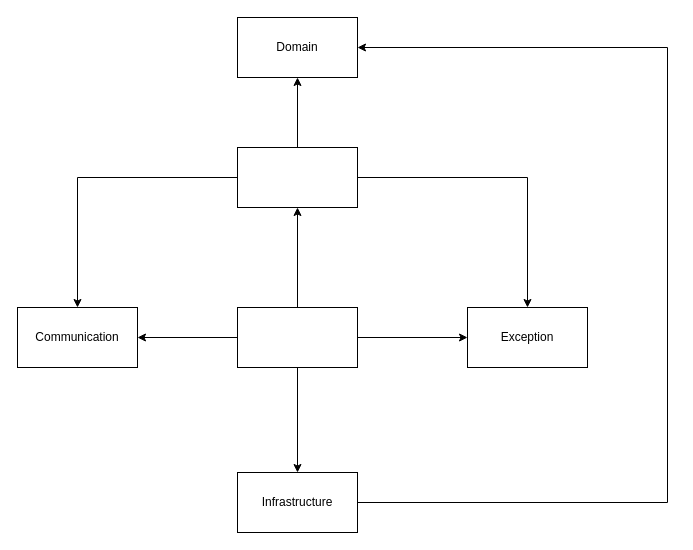
Some shapes in this 693 by 550 pixel diagram are drawn without their labels. The box of each missing label's shape, as (x1, y1, x2, y2) in pixels:
Api: (236, 306, 358, 368)
Application: (236, 146, 358, 208)
